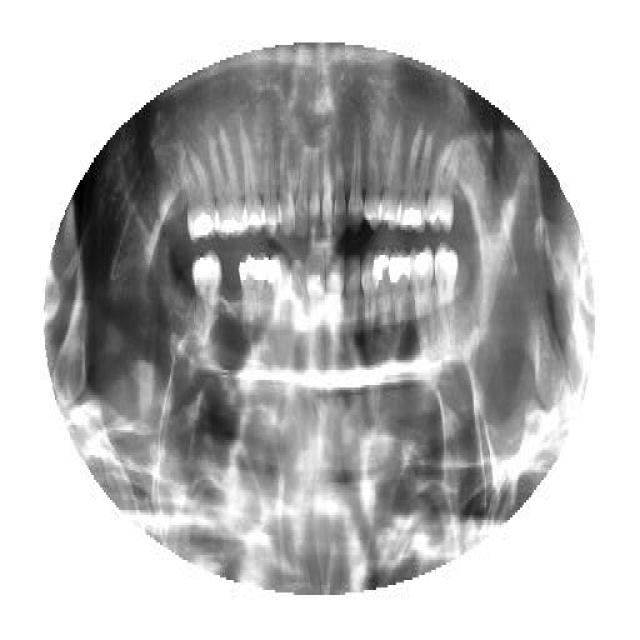Fillings: (206, 128, 246, 242), (396, 125, 432, 237), (181, 142, 215, 242), (238, 252, 270, 332), (410, 245, 435, 347), (192, 250, 222, 328), (435, 242, 457, 338), (389, 250, 410, 348), (374, 248, 390, 338)
